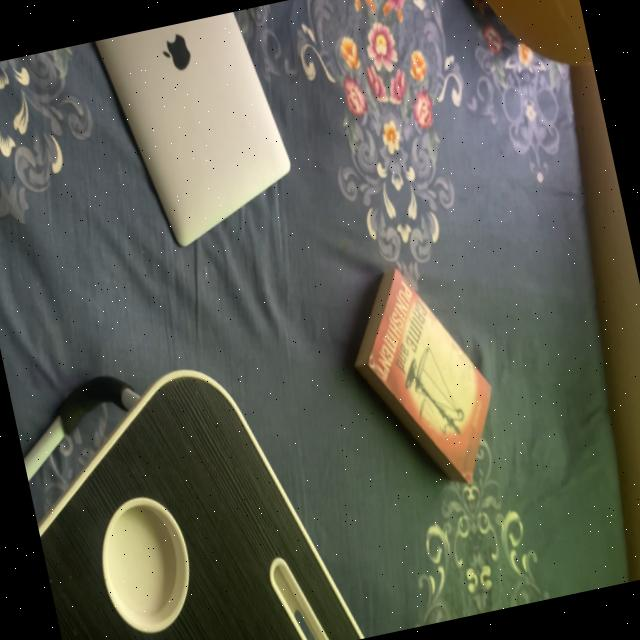book: (330, 235, 524, 531)
laptop: (74, 5, 312, 278)
table: (8, 330, 373, 640)
